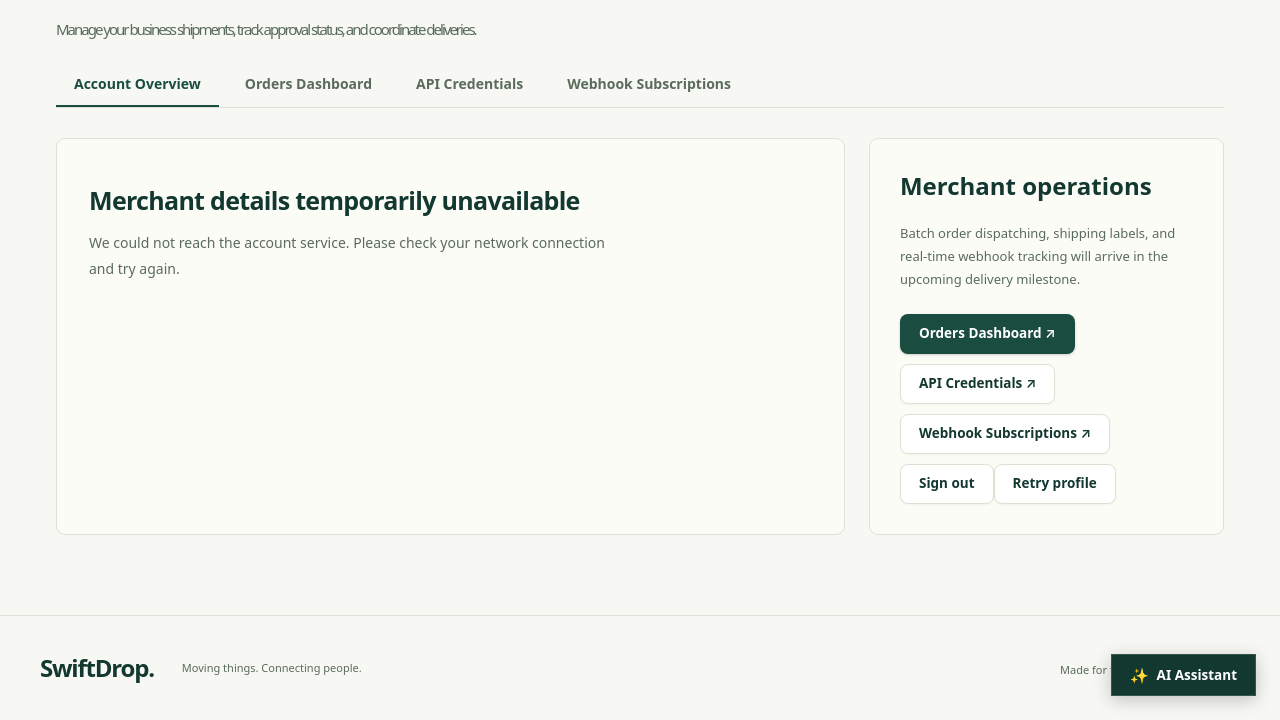
Test case: Merchant role landing and approval-state UI › renders error state when profile service is unavailable, and supports retrying
This screenshot has width=1280, height=720.
(page scrolled)
Expected: the heading "Merchant details temporarily unavailable" is shown, [89, 183, 580, 217]
Expected: the message shows "We could not reach the account service", [89, 233, 605, 278]
Click the button "Retry profile".
click(1055, 484)  # box [994, 464, 1116, 504]
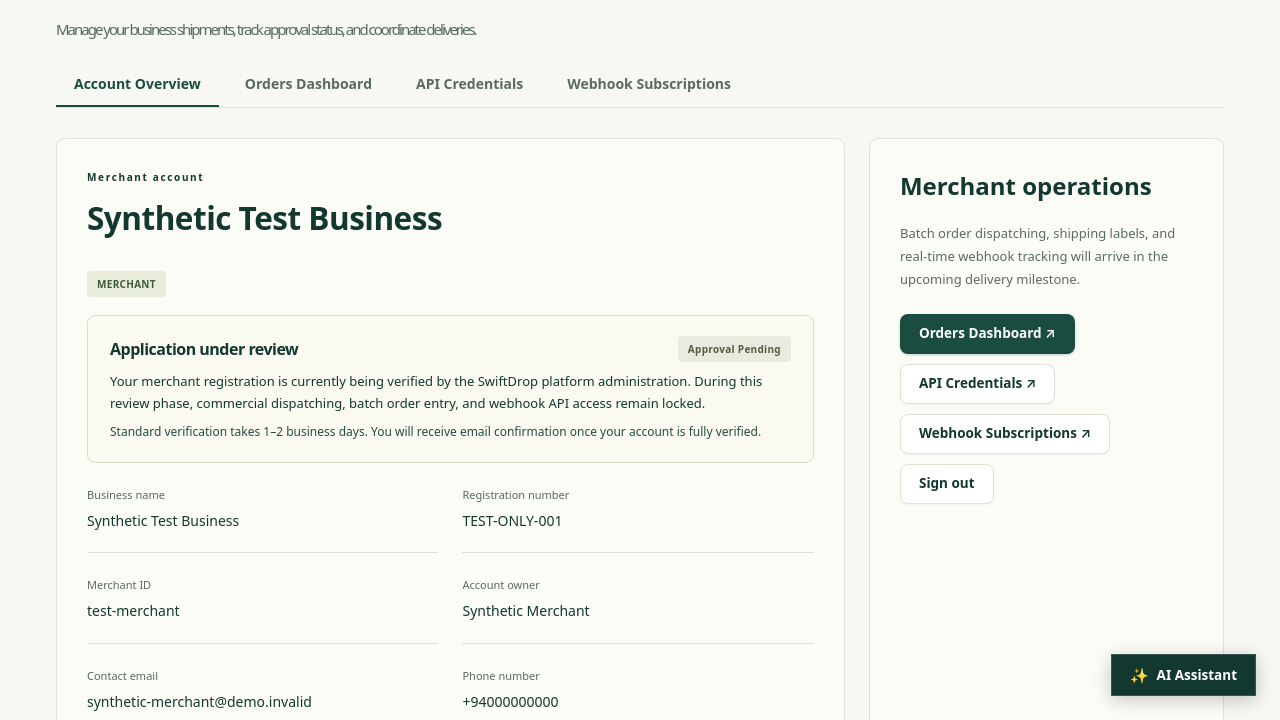
Expected: the heading "Synthetic Test Business" is shown, [87, 196, 442, 239]
